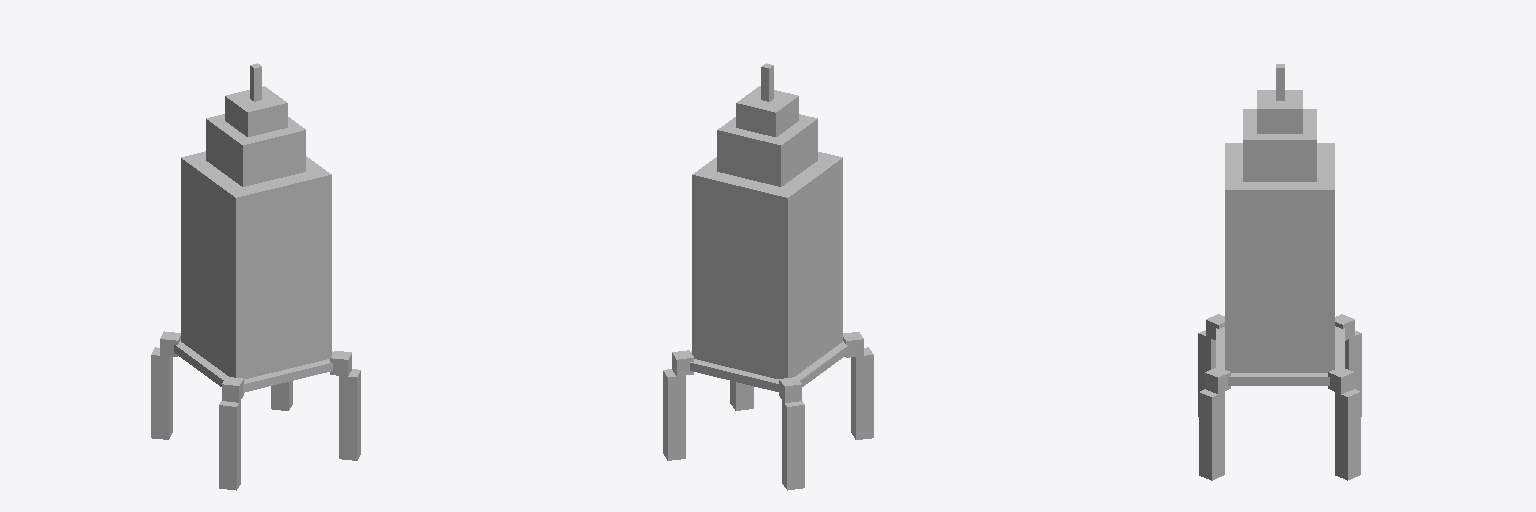
Rendered from tier3.obj.
3 renders of one model, left to right at view 1: azimuth 30°, elevation 25°; view 2: azimuth 150°, elevation 25°; view 3: azimuth 270°, elevation 25°, orthographic.
Parts seen in each view (by area): view 1: body_v2, head_v1, head_v2, bodu_v1, foot_1_v1, foot_3_v2, foot_4_v1, foot_2_v1; view 2: body_v2, head_v1, head_v2, foot_2_v1, foot_4_v1, foot_1_v1, bodu_v1, foot_3_v2; view 3: body_v2, head_v1, foot_2_v1, foot_3_v2, bodu_v1, head_v2, foot_1_v1, foot_4_v1, foot_2_v2, foot_3_v1.
Part boxes in pixels (bbox=[...]): body_v2: bbox=[181, 151, 331, 379]; head_v1: bbox=[206, 114, 305, 186]; head_v2: bbox=[225, 86, 287, 136]; bodu_v1: bbox=[174, 340, 332, 392]; foot_1_v1: bbox=[219, 401, 240, 490]; foot_3_v2: bbox=[339, 369, 360, 460]; foot_4_v1: bbox=[151, 347, 172, 439]; foot_2_v1: bbox=[271, 381, 292, 410]; body_v2: bbox=[692, 152, 842, 378]; head_v1: bbox=[717, 114, 817, 186]; head_v2: bbox=[736, 86, 798, 136]; foot_2_v1: bbox=[663, 369, 685, 460]; foot_4_v1: bbox=[782, 400, 804, 490]; foot_1_v1: bbox=[851, 347, 873, 439]; bodu_v1: bbox=[690, 341, 848, 392]; foot_3_v2: bbox=[730, 381, 753, 410]; body_v2: bbox=[1225, 143, 1334, 372]; head_v1: bbox=[1243, 109, 1316, 181]; foot_2_v1: bbox=[1335, 389, 1360, 480]; foot_3_v2: bbox=[1199, 389, 1224, 480]; bodu_v1: bbox=[1216, 326, 1344, 385]; head_v2: bbox=[1257, 90, 1302, 133]; foot_1_v1: bbox=[1198, 330, 1215, 416]; foot_4_v1: bbox=[1345, 331, 1361, 416]; foot_2_v2: bbox=[1328, 367, 1353, 393]; foot_3_v1: bbox=[1205, 367, 1230, 393].
Size of the model in its own units: 1.12 by 2.84 by 1.11.